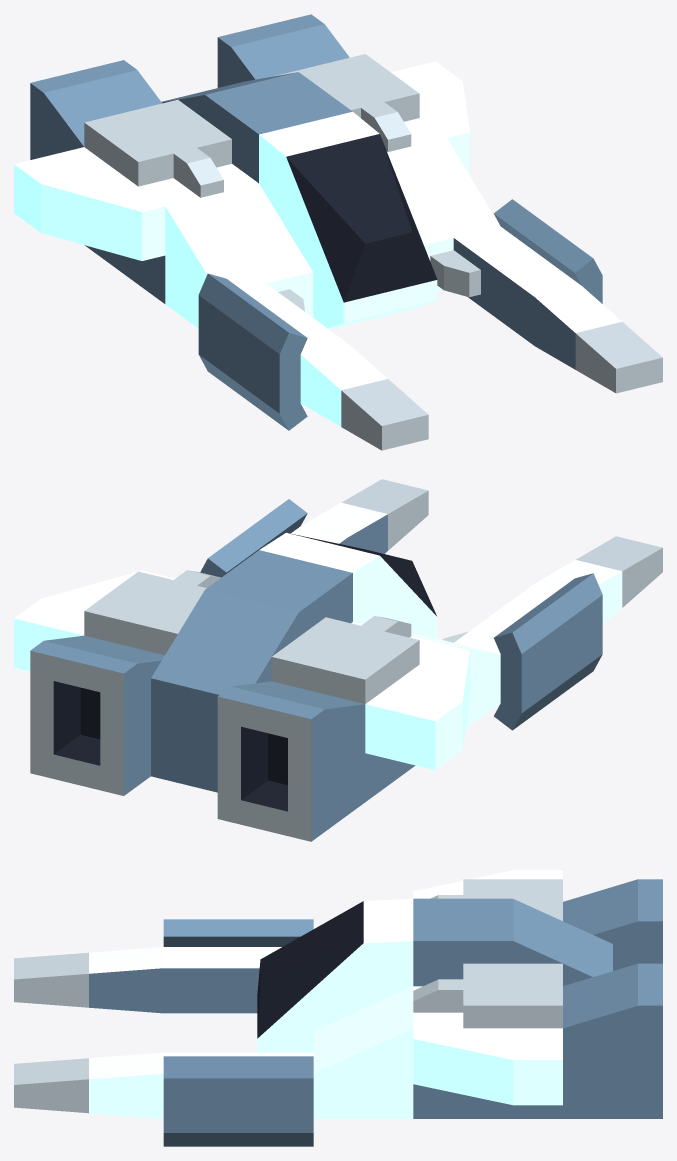
Rendered from midnight.dae.
3 views of the same model, one above another, from view 1: azimuth 30°, elevation 25°; view 2: azimuth 150°, elevation 25°; view 3: azimuth 270°, elevation 25° (orthographic). The views are drawn at different scales.
Visible parts, largest first — view 1: craft_miner; view 2: craft_miner; view 3: craft_miner.
Part boxes in pixels (box(x1,y1,x2,y2)): craft_miner: box(14, 14, 662, 450); craft_miner: box(14, 479, 662, 841); craft_miner: box(14, 870, 662, 1146).
Size of the model in its own units: 1.8 by 0.7 by 2.6.
